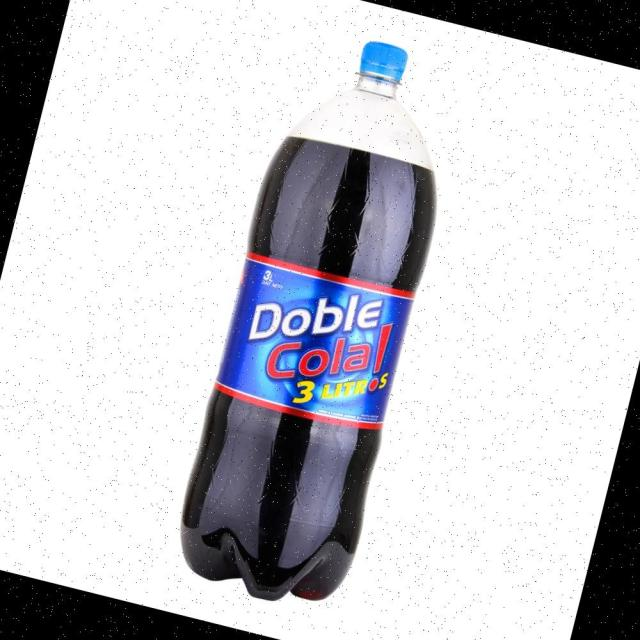doble cola: (126, 4, 512, 632)
